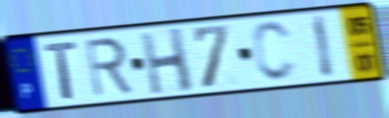7: (192, 22, 232, 91)
C: (250, 19, 300, 84)
H: (138, 25, 196, 97)
I: (311, 13, 337, 81)
R: (82, 35, 136, 100)
T: (42, 39, 80, 102)
